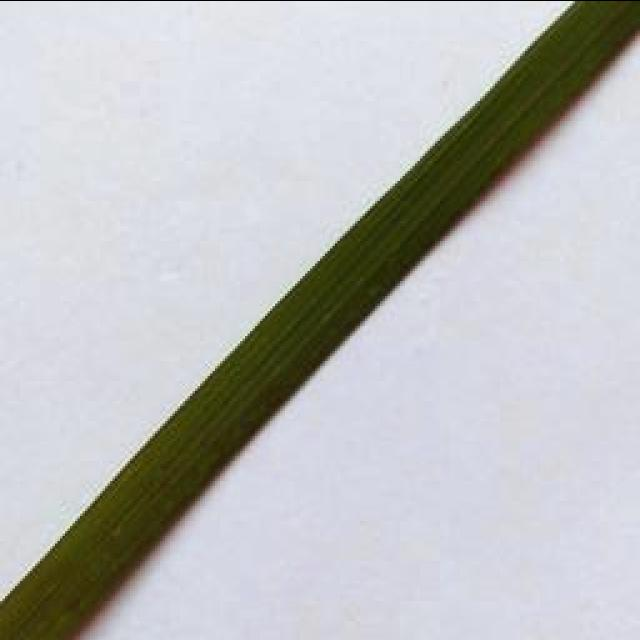Healthy: (0, 0, 640, 640)
